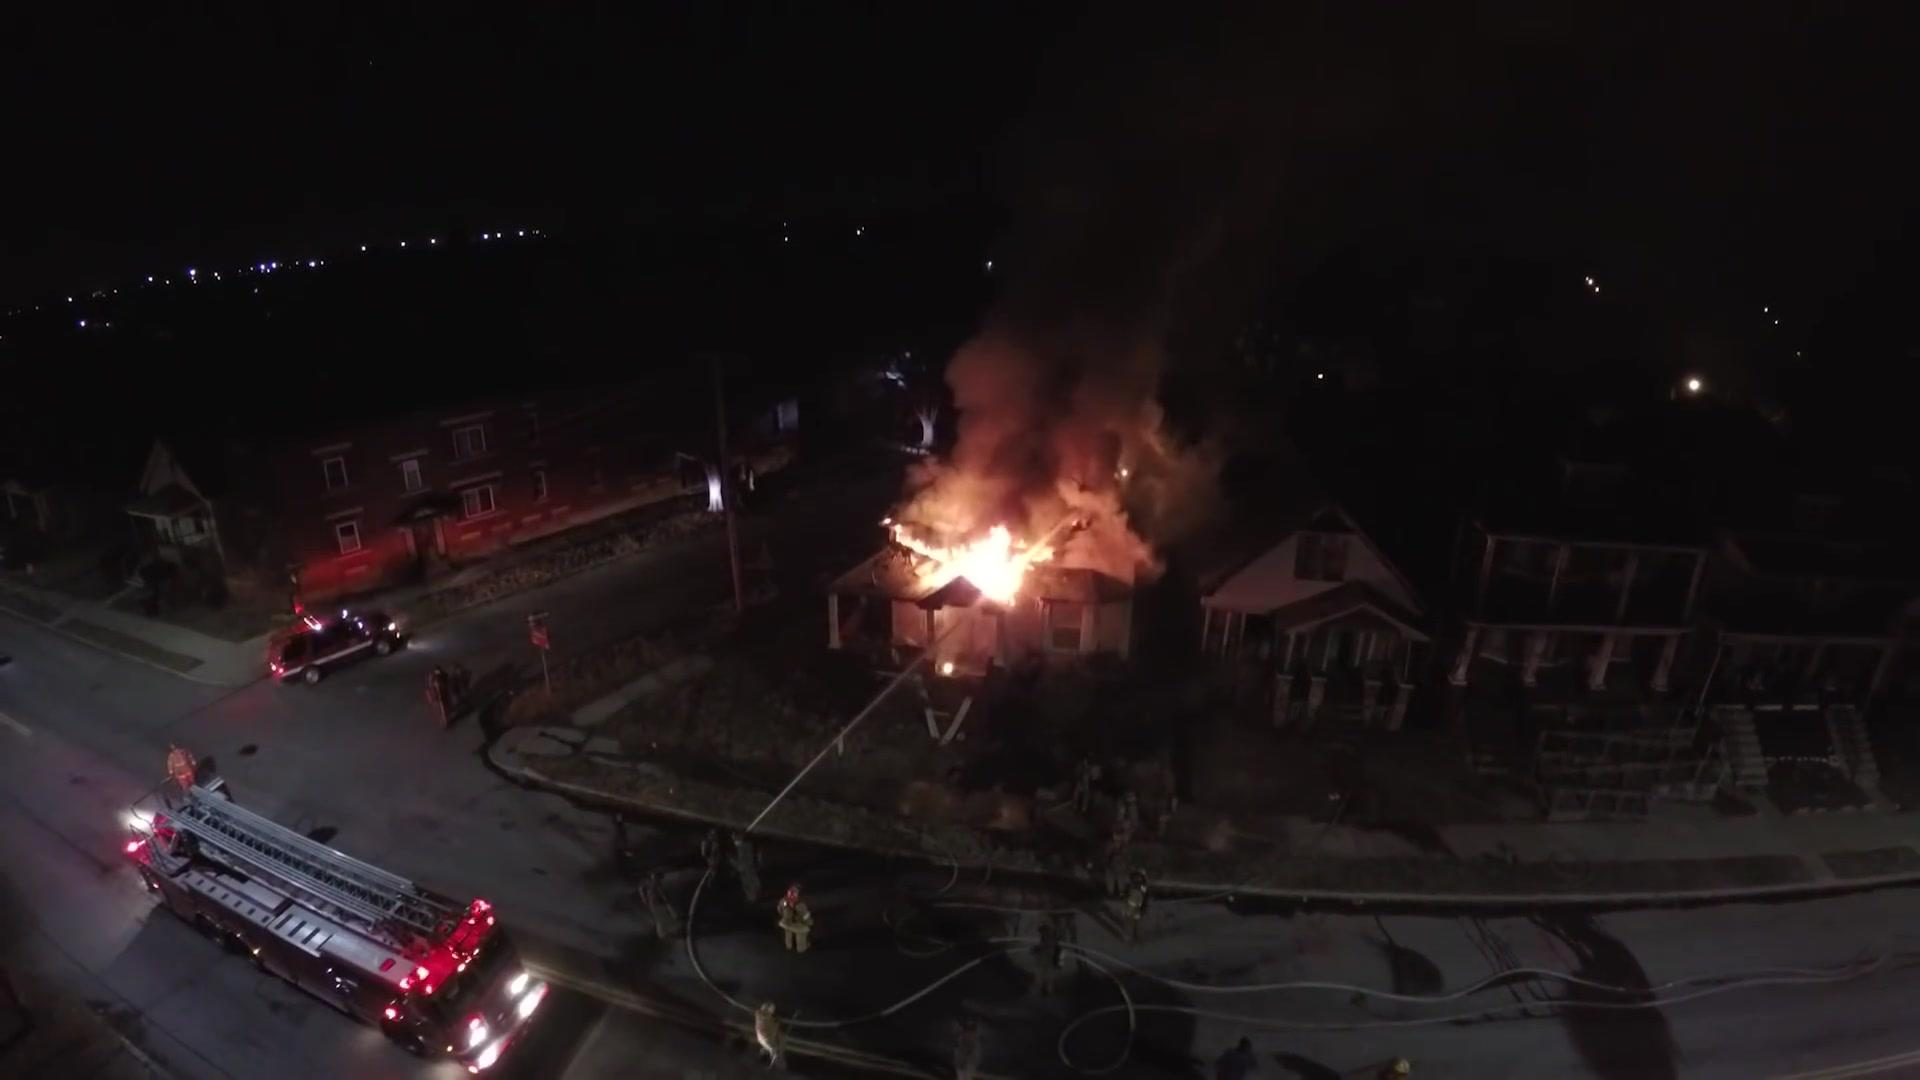fire: (953, 525, 1038, 600)
